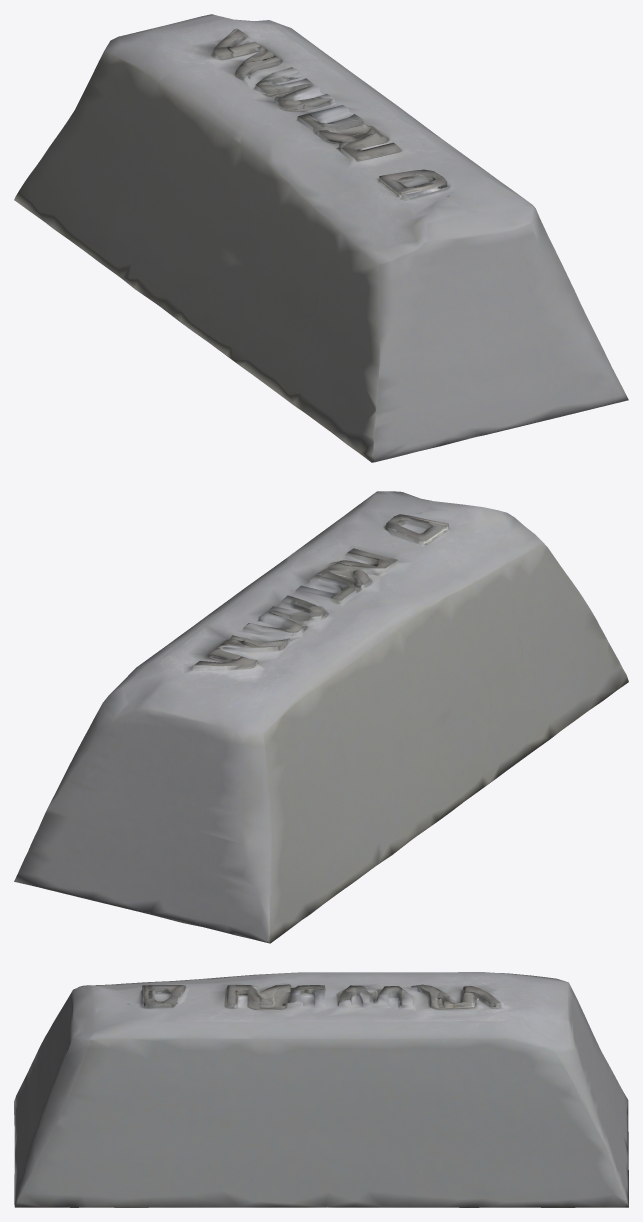
Rendered from Iron.fbx.
3 renders of one model, top to bottom at view 1: azimuth 30°, elevation 25°; view 2: azimuth 150°, elevation 25°; view 3: azimuth 270°, elevation 25°, orthographic. The views are drawn at different scales.
Visible parts, largest first — view 1: Mesh_0; view 2: Mesh_0; view 3: Mesh_0.
Part boxes in pixels (x1,y1,x2,y2): Mesh_0: [14, 14, 628, 462]; Mesh_0: [14, 491, 628, 943]; Mesh_0: [14, 972, 628, 1207].
Size of the model in its own units: 82.63 by 58.1 by 201.
